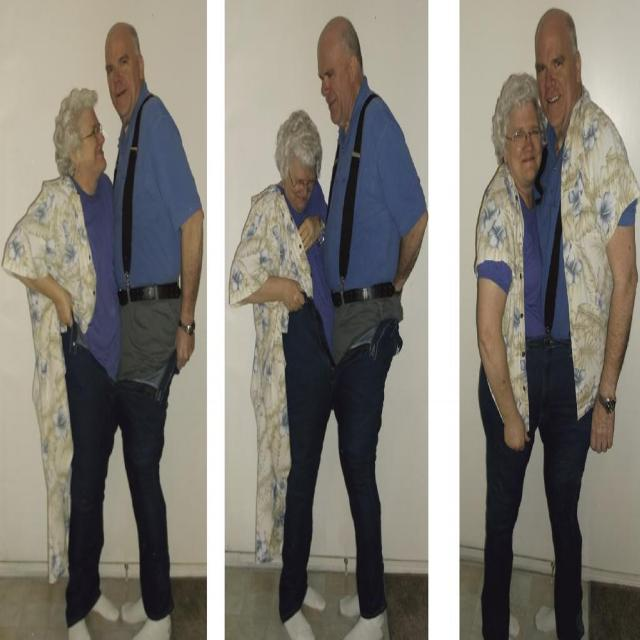nomask: (535, 31, 575, 127), (506, 100, 542, 181), (105, 30, 139, 113), (317, 43, 351, 124), (77, 106, 106, 171), (284, 152, 315, 210)
